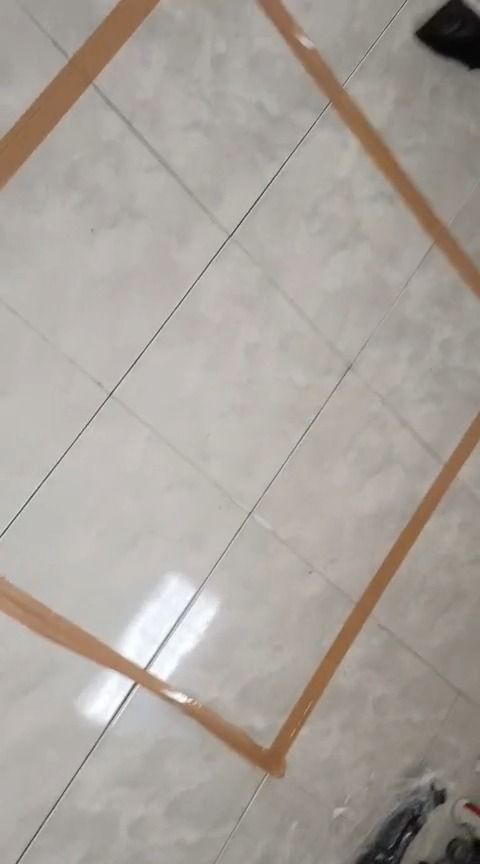floor marking: (0, 415, 479, 777), (261, 0, 479, 295), (0, 0, 158, 187)
